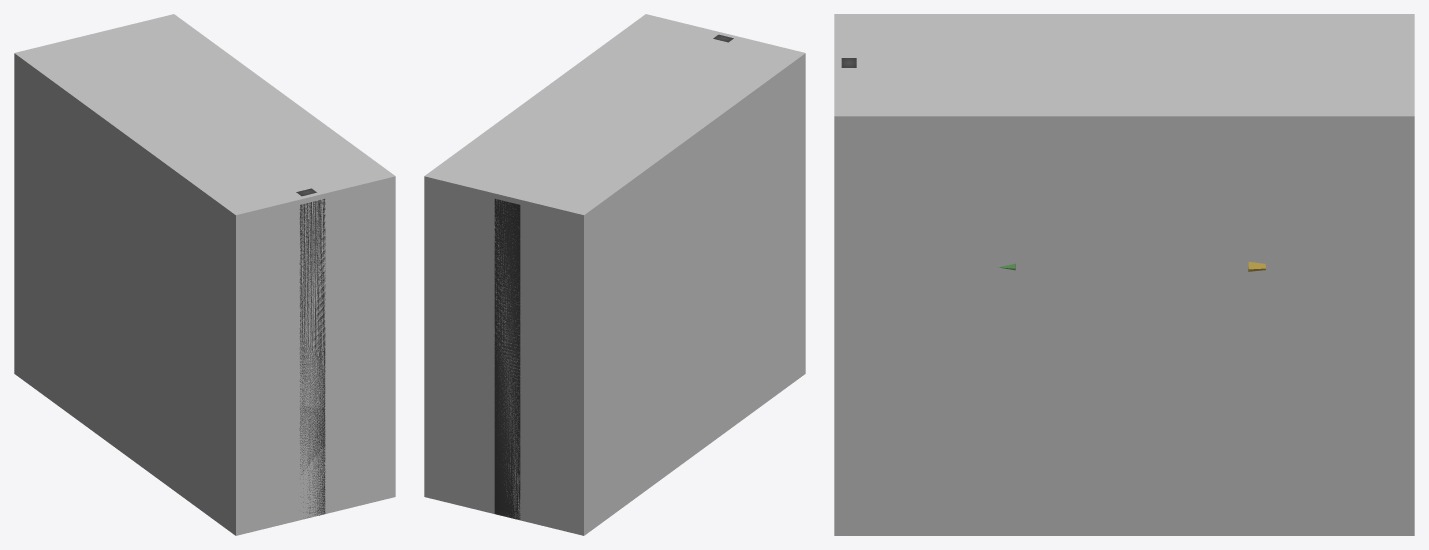
Rendered from SM_Cloth_Shop.fbx.
3 renders of one model, left to right at view 1: azimuth 30°, elevation 25°; view 2: azimuth 150°, elevation 25°; view 3: azimuth 270°, elevation 25°, orthographic. The views are drawn at different scales.
Parts seen in each view (by area): view 1: SM_Cloth_Shop_ConvexHulls, SM_Cloth_Shop; view 2: SM_Cloth_Shop_ConvexHulls, SM_Cloth_Shop; view 3: SM_Cloth_Shop_ConvexHulls.
Boxes of the visible parts, x1=… form: SM_Cloth_Shop_ConvexHulls: x1=14, y1=14, x2=395, y2=535; SM_Cloth_Shop: x1=296, y1=188, x2=325, y2=517; SM_Cloth_Shop_ConvexHulls: x1=424, y1=14, x2=805, y2=535; SM_Cloth_Shop: x1=494, y1=34, x2=733, y2=519; SM_Cloth_Shop_ConvexHulls: x1=834, y1=14, x2=1414, y2=535.
Size of the model in its own units: 94.75 by 223 by 178.
Materials: 2 (1 with a texture image).
